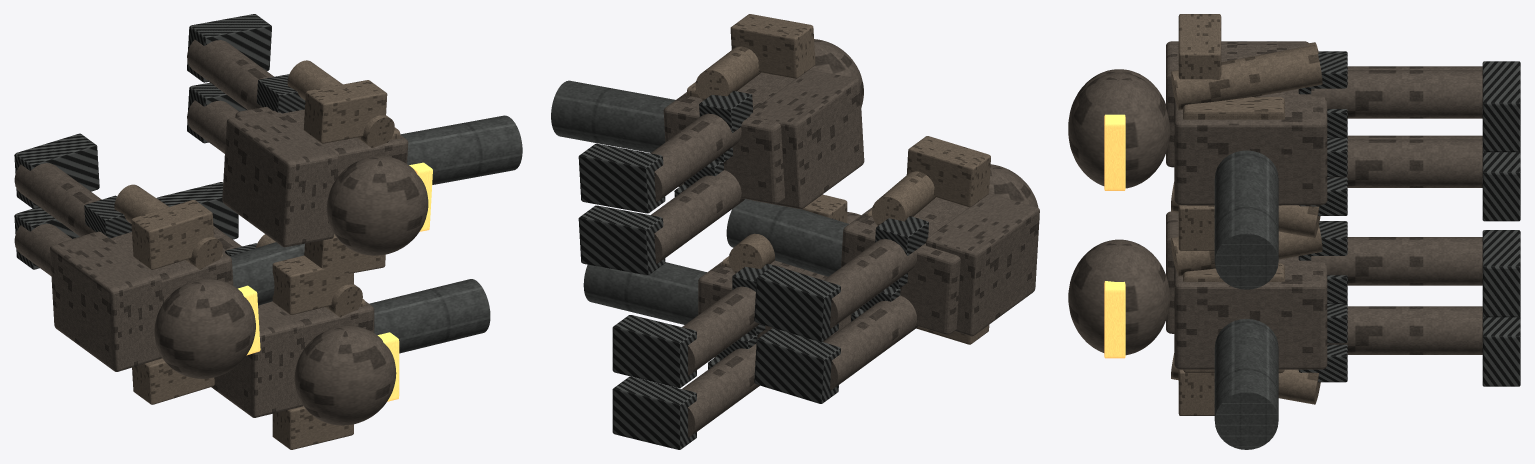
File: d-u05-dominion-anti-air-team-lod0.glb
The picture shows the model from 3 angles, left to right: view 1: azimuth 30°, elevation 25°; view 2: azimuth 150°, elevation 25°; view 3: azimuth 270°, elevation 25°; orthographic projection. The views are drawn at different scales.
Visible parts, largest first — view 1: soldier_0_backpack, soldier_2_backpack, soldier_1_helmet, soldier_2_helmet, soldier_0_helmet, soldier_1_backpack, soldier_1_launcher, soldier_0_launcher, soldier_2_shoulder_1, soldier_0_shoulder_1, soldier_2_leg_1, soldier_0_leg_1 (+23 smaller); view 2: soldier_0_backpack, soldier_2_backpack, soldier_0_launcher, soldier_2_torso, soldier_0_torso, soldier_2_launcher, soldier_1_launcher, soldier_2_boot_1, soldier_1_boot_-1, soldier_1_boot_1, soldier_2_boot_-1, soldier_0_boot_-1 (+19 smaller); view 3: soldier_1_torso, soldier_0_torso, soldier_0_launcher, soldier_0_helmet, soldier_1_helmet, soldier_1_launcher, soldier_0_leg_1, soldier_1_leg_1, soldier_1_leg_-1, soldier_0_leg_-1, soldier_0_arm_1, soldier_0_boot_1 (+25 smaller).
Part boxes in pixels (x1=…): soldier_0_backpack: x1=222, y1=110, x2=338, y2=247; soldier_2_backpack: x1=50, y1=231, x2=162, y2=371; soldier_1_helmet: x1=294, y1=326, x2=396, y2=425; soldier_2_helmet: x1=154, y1=279, x2=255, y2=378; soldier_0_helmet: x1=327, y1=156, x2=428, y2=255; soldier_1_backpack: x1=211, y1=301, x2=303, y2=417; soldier_1_launcher: x1=369, y1=279, x2=490, y2=353; soldier_0_launcher: x1=400, y1=115, x2=522, y2=184; soldier_2_shoulder_1: x1=131, y1=199, x2=213, y2=269; soldier_0_shoulder_1: x1=303, y1=80, x2=387, y2=143; soldier_2_leg_1: x1=14, y1=163, x2=101, y2=236; soldier_0_leg_1: x1=187, y1=39, x2=273, y2=109; soldier_0_backpack: x1=749, y1=69, x2=864, y2=209; soldier_2_backpack: x1=926, y1=193, x2=1039, y2=336; soldier_0_launcher: x1=551, y1=80, x2=675, y2=152; soldier_2_torso: x1=841, y1=197, x2=968, y2=334; soldier_0_torso: x1=663, y1=72, x2=795, y2=203; soldier_2_launcher: x1=726, y1=199, x2=848, y2=276; soldier_1_launcher: x1=583, y1=262, x2=706, y2=324; soldier_2_boot_1: x1=754, y1=265, x2=840, y2=342; soldier_1_boot_-1: x1=612, y1=376, x2=696, y2=449; soldier_1_boot_1: x1=612, y1=315, x2=696, y2=387; soldier_2_boot_-1: x1=754, y1=328, x2=840, y2=403; soldier_0_boot_-1: x1=578, y1=205, x2=665, y2=275; soldier_1_torso: x1=1174, y1=256, x2=1327, y2=369; soldier_0_torso: x1=1174, y1=89, x2=1327, y2=205; soldier_0_launcher: x1=1214, y1=150, x2=1278, y2=289; soldier_0_helmet: x1=1068, y1=72, x2=1170, y2=188; soldier_1_helmet: x1=1068, y1=239, x2=1170, y2=355; soldier_1_launcher: x1=1214, y1=318, x2=1278, y2=449; soldier_0_leg_1: x1=1311, y1=70, x2=1482, y2=118; soldier_1_leg_1: x1=1311, y1=237, x2=1482, y2=285; soldier_1_leg_-1: x1=1327, y1=306, x2=1482, y2=354; soldier_0_leg_-1: x1=1327, y1=139, x2=1482, y2=187; soldier_0_arm_1: x1=1171, y1=45, x2=1322, y2=110; soldier_0_boot_1: x1=1482, y1=61, x2=1520, y2=152.
Size of what is drawn, in the model's own units: 2.69 by 2.01 by 2.13.
5 materials, 5 textured.
